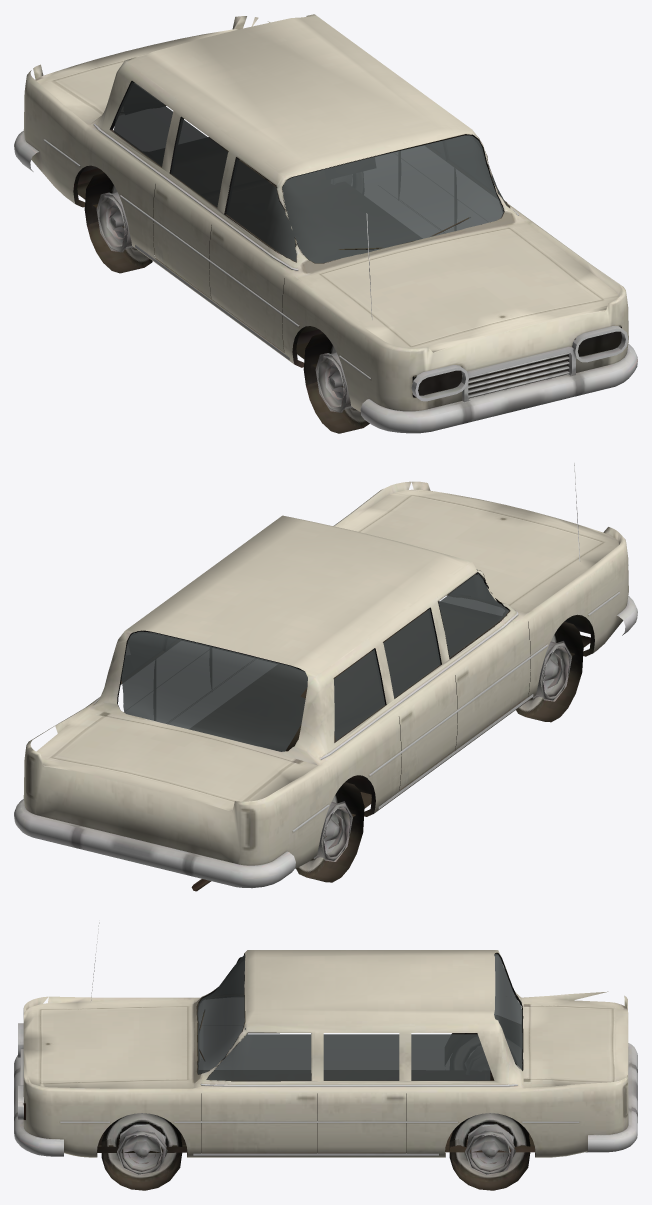
The model's file is nuketown_car_white-low.glb.
3 renders of one model, top to bottom at view 1: azimuth 30°, elevation 25°; view 2: azimuth 150°, elevation 25°; view 3: azimuth 270°, elevation 25°, orthographic. The views are drawn at different scales.
Visible parts, largest first — view 1: car_white_A_low, car_white_glass_low, car_white_B_low; view 2: car_white_A_low, car_white_glass_low, car_white_B_low; view 3: car_white_A_low, car_white_glass_low, car_white_B_low.
Part boxes in pixels (x1=…): car_white_A_low: x1=14, y1=14, x2=637, y2=433; car_white_glass_low: x1=113, y1=82, x2=508, y2=263; car_white_B_low: x1=77, y1=137, x2=369, y2=433; car_white_A_low: x1=14, y1=463, x2=637, y2=888; car_white_glass_low: x1=120, y1=569, x2=508, y2=751; car_white_B_low: x1=191, y1=601, x2=590, y2=891; car_white_A_low: x1=14, y1=922, x2=637, y2=1157; car_white_glass_low: x1=197, y1=953, x2=522, y2=1080; car_white_B_low: x1=97, y1=1033, x2=587, y2=1190.
Bounding box in the file's own units: 2 × 1.68 × 5.11.
Materials: 3 (2 with a texture image).
